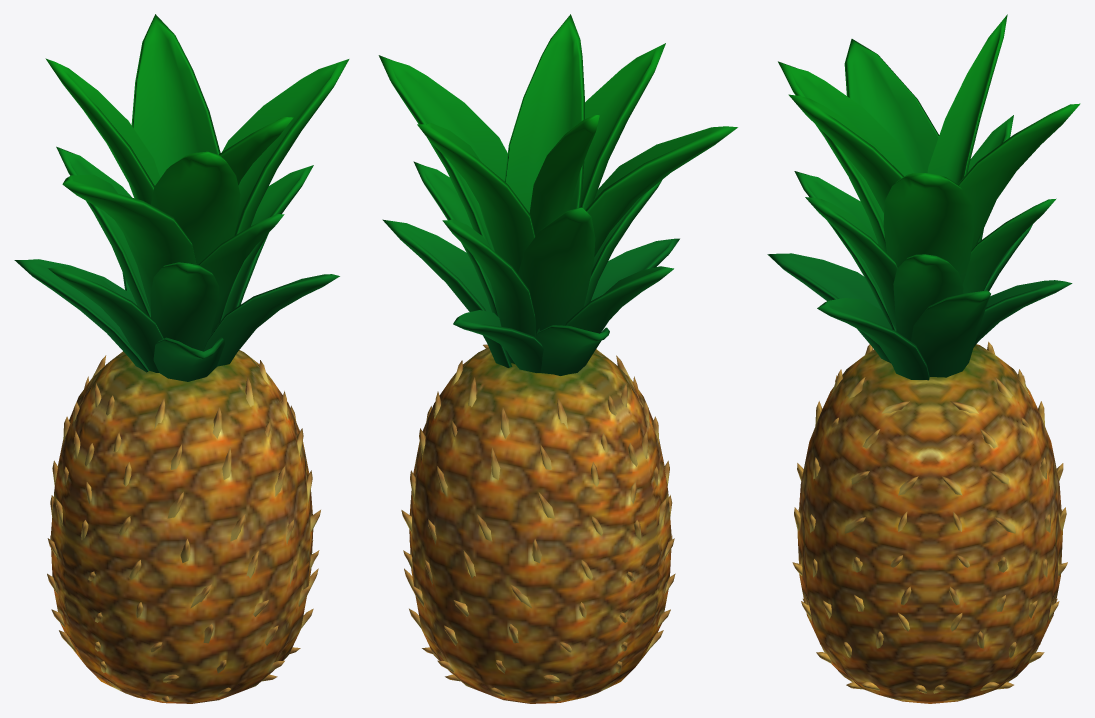
Rendered from Pineapple.fbx.
The picture shows the model from 3 angles, left to right: view 1: azimuth 30°, elevation 25°; view 2: azimuth 150°, elevation 25°; view 3: azimuth 270°, elevation 25°; orthographic projection.
Visible parts, largest first — view 1: Pineapple; view 2: Pineapple; view 3: Pineapple.
Boxes of the visible parts, <box> form: Pineapple: <box>14,14,349,703</box>; Pineapple: <box>378,14,737,703</box>; Pineapple: <box>767,14,1080,703</box>.
Bounding box in the file's own units: 14.23 × 25.99 × 11.92.
